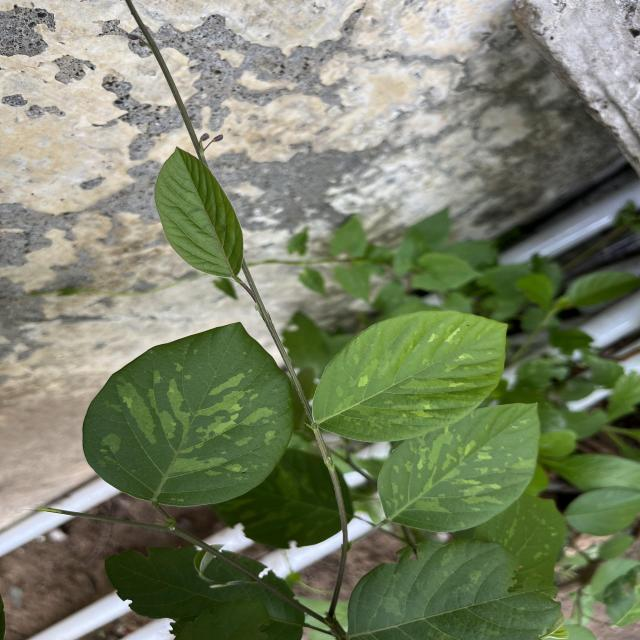Desmodium gangeticum: (79, 318, 298, 511), (310, 308, 510, 445)
